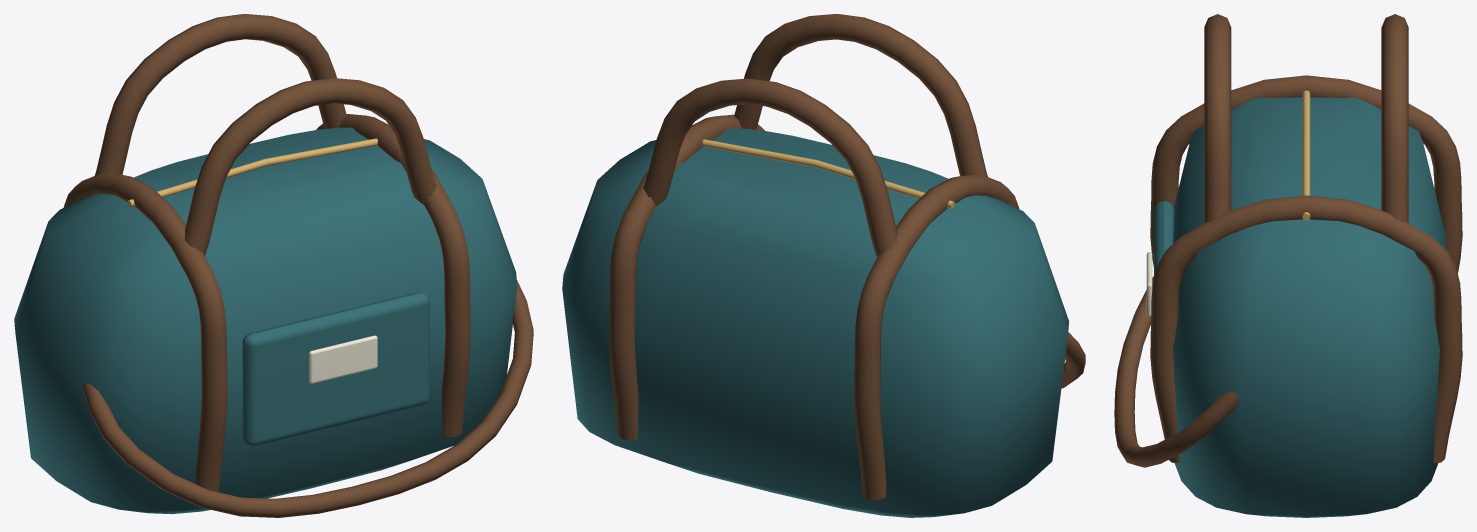
File: HotelTogether-DuffelBag.glb
3 views of the same model, side by side, from view 1: azimuth 30°, elevation 25°; view 2: azimuth 150°, elevation 25°; view 3: azimuth 270°, elevation 25° (orthographic).
Visible parts, largest first — view 1: Duffel_SoftBody, Duffel_FrontPocket, Duffel_ShoulderStrap, Duffel_Handles, Duffel_Webbing, Duffel_Handles.001, Duffel_Webbing.001, Duffel_Badge, Duffel_TopZipper; view 2: Duffel_SoftBody, Duffel_Handles.001, Duffel_Webbing, Duffel_Handles, Duffel_Webbing.001, Duffel_TopZipper, Duffel_ShoulderStrap; view 3: Duffel_SoftBody, Duffel_Webbing.001, Duffel_Webbing, Duffel_Handles.001, Duffel_Handles, Duffel_ShoulderStrap, Duffel_FrontPocket, Duffel_TopZipper, Duffel_Badge.
Part boxes in pixels (x1,y1,x2,y2): Duffel_SoftBody: (14,127,517,514); Duffel_FrontPocket: (242,292,429,446); Duffel_ShoulderStrap: (83,279,533,517); Duffel_Handles: (178,78,436,260); Duffel_Webbing: (63,173,227,492); Duffel_Handles.001: (94,14,346,176); Duffel_Webbing.001: (316,114,470,436); Duffel_Badge: (309,335,377,383); Duffel_TopZipper: (127,138,377,207); Duffel_SoftBody: (562,128,1069,517); Duffel_Handles.001: (643,78,897,257); Duffel_Webbing: (854,174,1019,499); Duffel_Handles: (734,14,992,197); Duffel_Webbing.001: (609,114,764,440); Duffel_TopZipper: (702,139,954,208); Duffel_ShoulderStrap: (1061,332,1085,388); Duffel_SoftBody: (1173,97,1446,517); Duffel_Webbing.001: (1150,195,1462,463); Duffel_Webbing: (1150,75,1462,273); Duffel_Handles.001: (1381,14,1408,241); Duffel_Handles: (1204,14,1231,223); Duffel_ShoulderStrap: (1114,276,1238,467); Duffel_FrontPocket: (1154,200,1174,277); Duffel_TopZipper: (1302,90,1310,220); Duffel_Badge: (1146,252,1152,316).
Size of the model in its own units: 0.46 by 0.399 by 0.3063.
